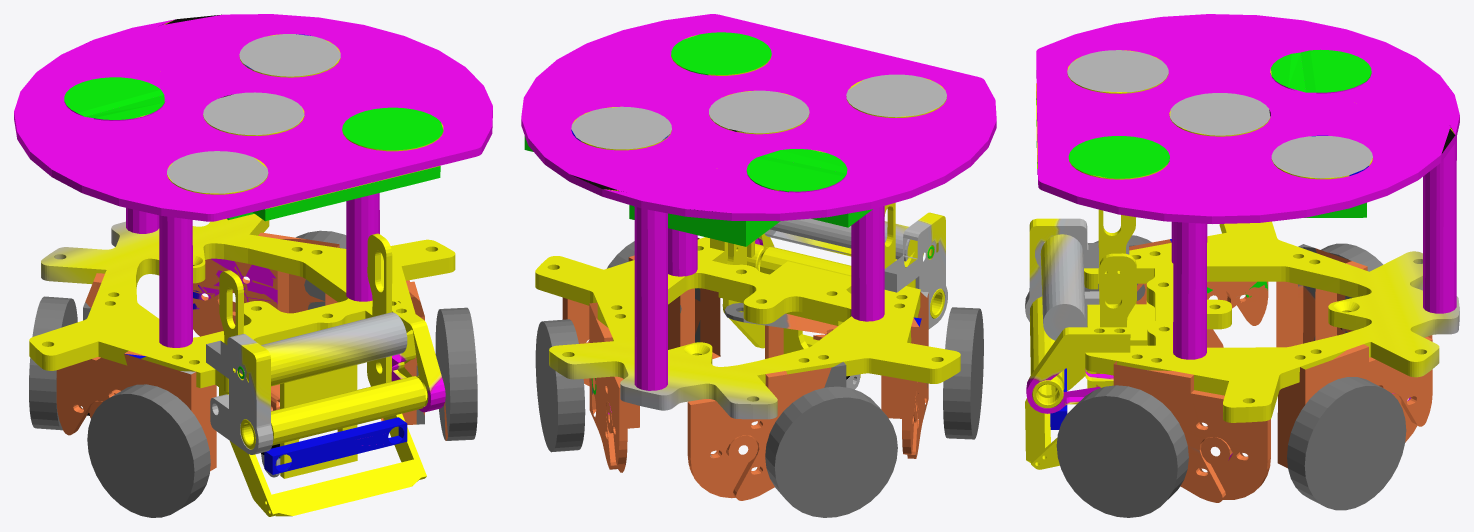
The model's file is rfcbotyellow.obj.
3 views of the same model, side by side, from view 1: azimuth 30°, elevation 25°; view 2: azimuth 150°, elevation 25°; view 3: azimuth 270°, elevation 25° (orthographic).
Parts seen in each view (by area): view 1: Cylinder_Cylinder; view 2: Cylinder_Cylinder; view 3: Cylinder_Cylinder.
Boxes of the visible parts, bbox=[...] form: Cylinder_Cylinder: bbox=[14, 14, 492, 517]; Cylinder_Cylinder: bbox=[521, 14, 996, 517]; Cylinder_Cylinder: bbox=[1025, 14, 1459, 517].
Bounding box in the file's own units: 0.1798 × 0.1337 × 0.1632.
Materials: 1 (1 with a texture image).
